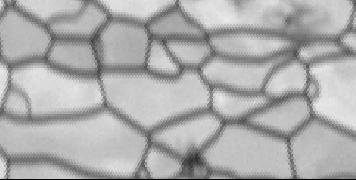good_void: (260, 0, 339, 80), (177, 139, 212, 180)
